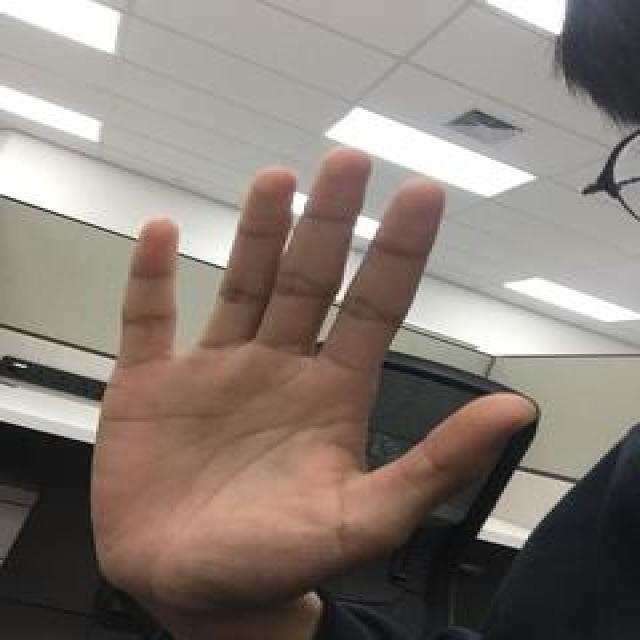hand: (86, 143, 542, 593)
